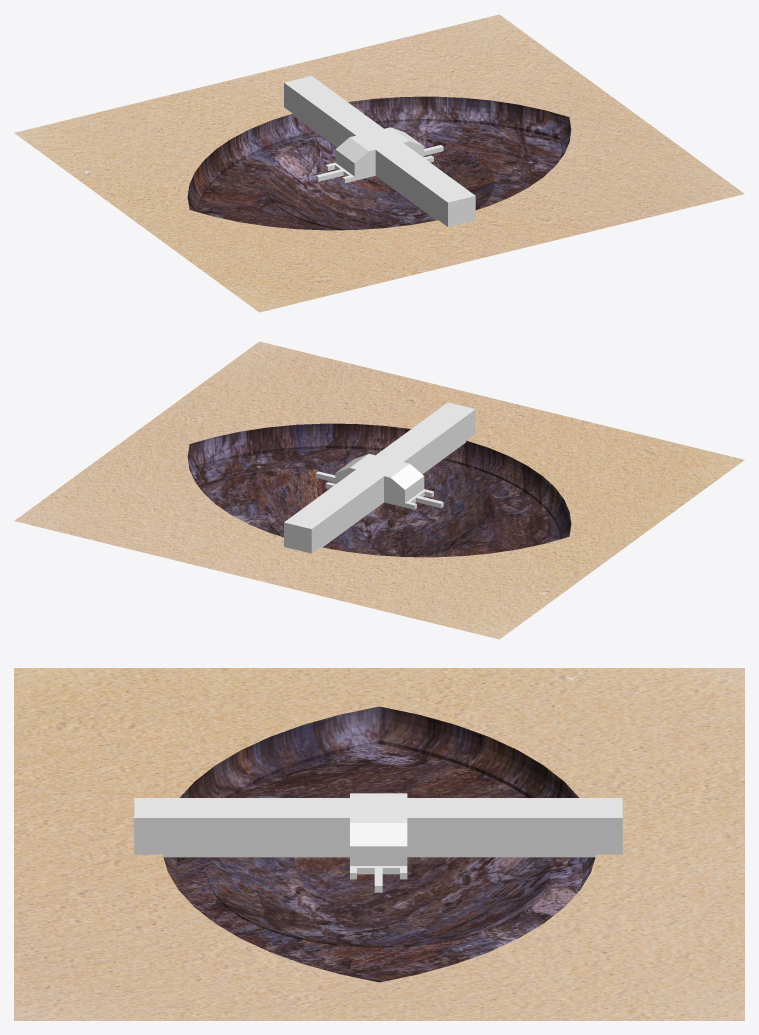
The model's file is transdec.dae.
3 views of the same model, one above another, from view 1: azimuth 30°, elevation 25°; view 2: azimuth 150°, elevation 25°; view 3: azimuth 270°, elevation 25° (orthographic). The views are drawn at different scales.
Parts seen in each view (by area): view 1: transdec.obj_Shape_IndexedFaceSet.006_Geometry_1, transdec.obj_Shape_IndexedFaceSet.006_Geometry_0, transdec.obj_TransdeckDeck.003_Geometry_0; view 2: transdec.obj_Shape_IndexedFaceSet.006_Geometry_1, transdec.obj_Shape_IndexedFaceSet.006_Geometry_0, transdec.obj_TransdeckDeck.003_Geometry_0; view 3: transdec.obj_Shape_IndexedFaceSet.006_Geometry_1, transdec.obj_Shape_IndexedFaceSet.006_Geometry_0, transdec.obj_TransdeckDeck.003_Geometry_0.
Part boxes in pixels (x1,y1,x2,y2): transdec.obj_Shape_IndexedFaceSet.006_Geometry_1: (14,14,744,312); transdec.obj_Shape_IndexedFaceSet.006_Geometry_0: (187,96,571,230); transdec.obj_TransdeckDeck.003_Geometry_0: (284,76,475,226); transdec.obj_Shape_IndexedFaceSet.006_Geometry_1: (14,341,744,639); transdec.obj_Shape_IndexedFaceSet.006_Geometry_0: (187,423,571,557); transdec.obj_TransdeckDeck.003_Geometry_0: (284,402,475,553); transdec.obj_Shape_IndexedFaceSet.006_Geometry_1: (14,668,744,1020); transdec.obj_Shape_IndexedFaceSet.006_Geometry_0: (163,706,595,982); transdec.obj_TransdeckDeck.003_Geometry_0: (134,793,622,892).
Size of the model in its own units: 117 by 102 by 17.73.
Materials: 3 (3 with a texture image).
